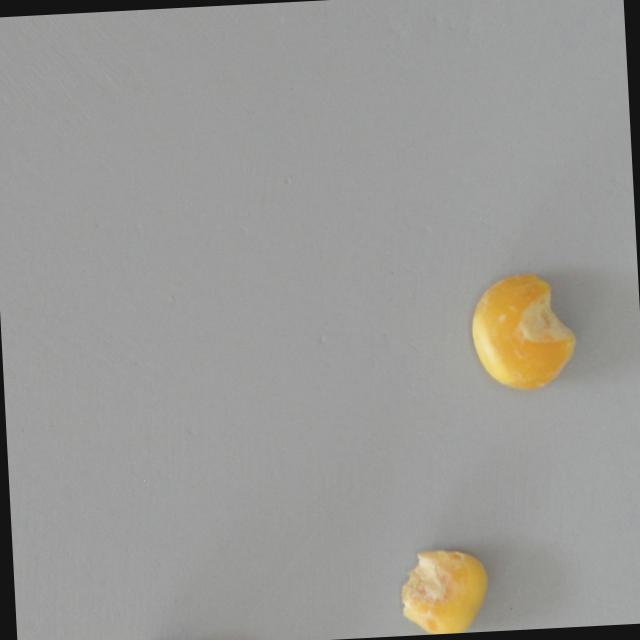dañado: (396, 542, 493, 636)
no_desgerminado: (462, 270, 580, 399)
